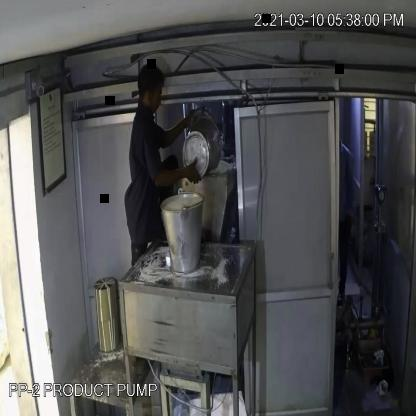no_glove: (145, 151, 201, 195), (159, 101, 200, 152)
